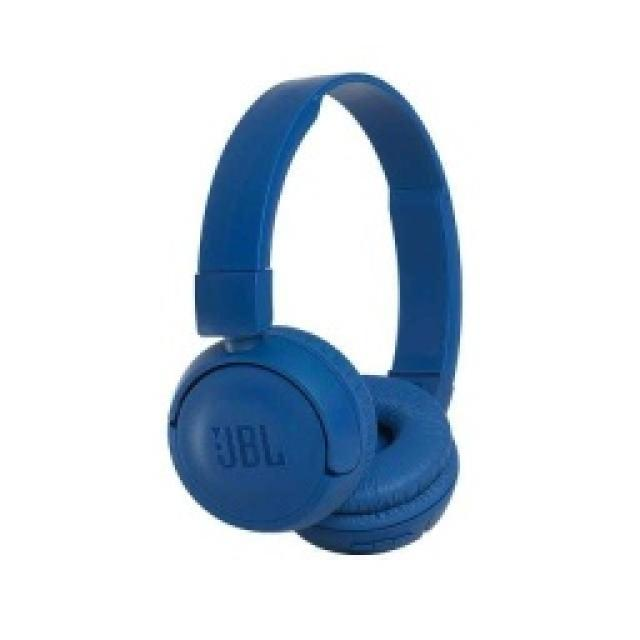headphones: (165, 67, 463, 555)
